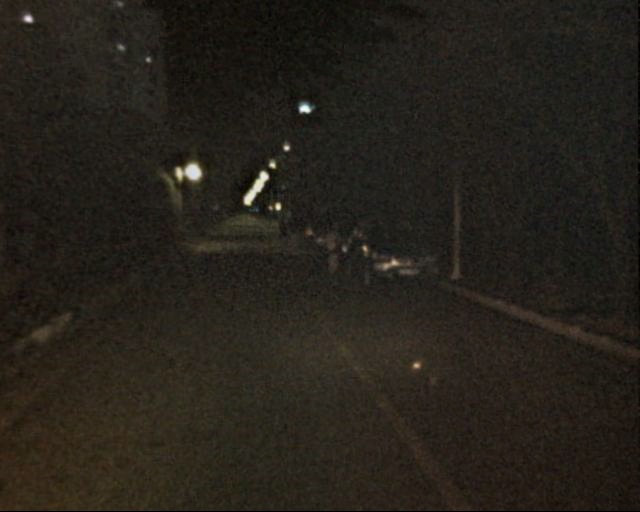person: (321, 221, 344, 276), (282, 213, 297, 249), (274, 217, 285, 245)
